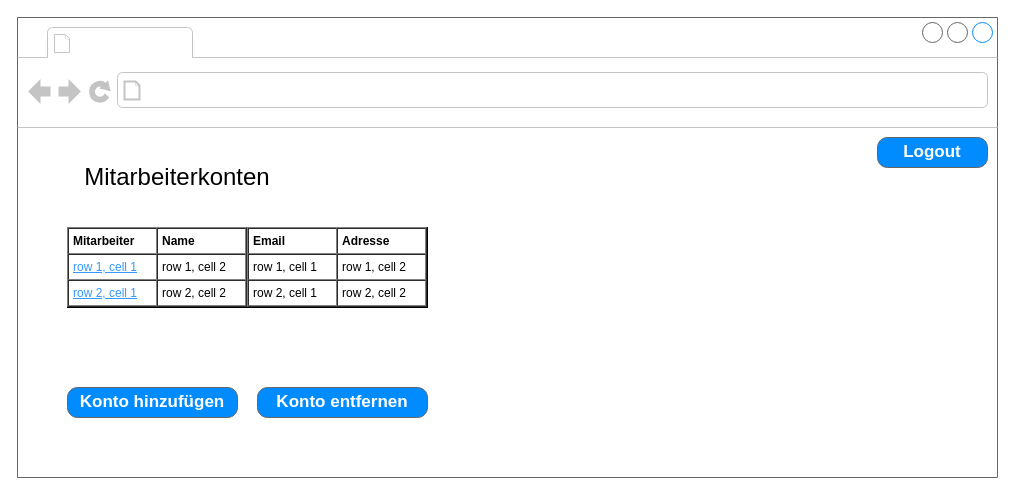
Some shapes in this 1015 by 495 pixel diagram are drawn without their labels. The centre of each missing label's shape, as x and y in pixels:
https://www.draw.io: point 272,90
Page 1: point 132,42
